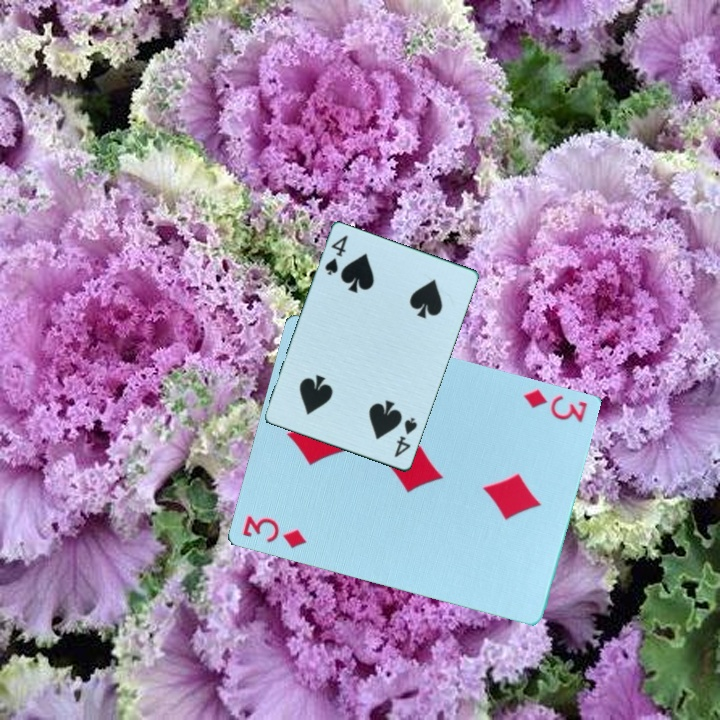3d: (239, 512, 310, 552), (519, 386, 590, 426)
4s: (321, 232, 351, 279), (391, 414, 420, 461)
